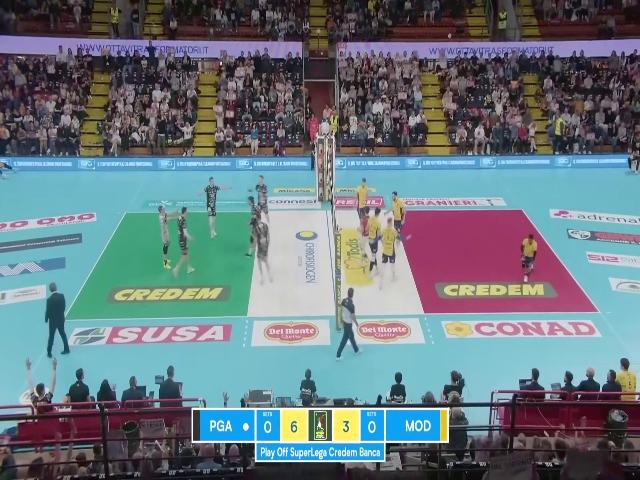volleyball court: (63, 209, 598, 318)
